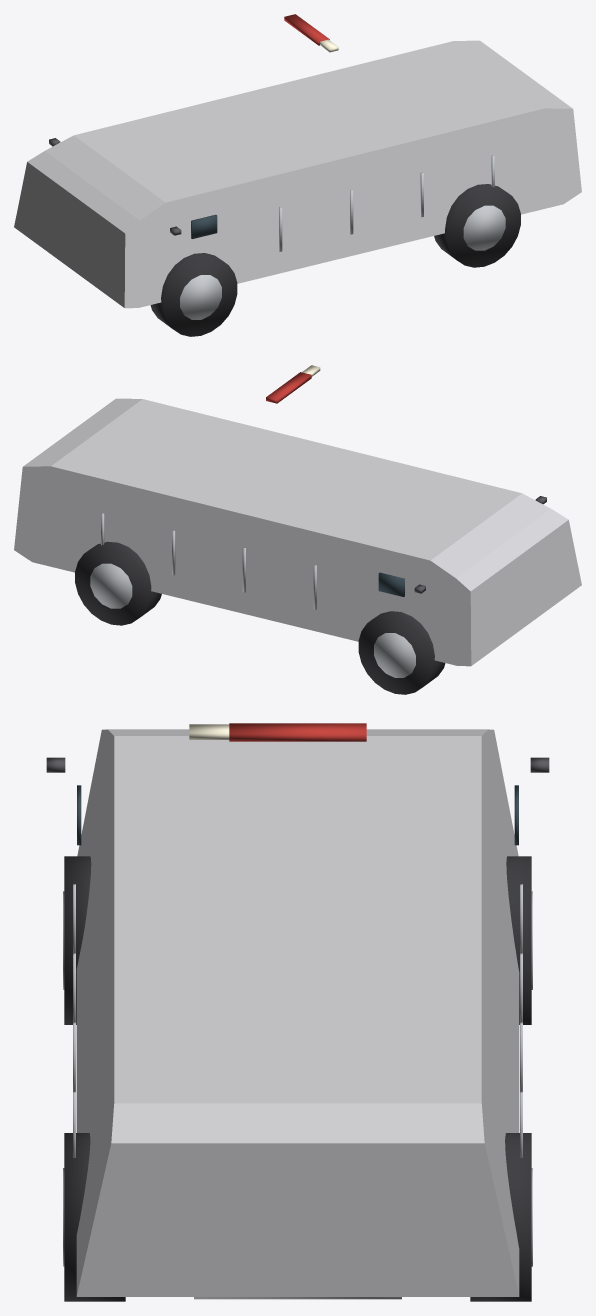
File: ambulance.glb
3 views of the same model, one above another, from view 1: azimuth 30°, elevation 25°; view 2: azimuth 150°, elevation 25°; view 3: azimuth 270°, elevation 25° (orthographic). The views are drawn at different scales.
Parts seen in each view (by area): view 1: body_main, wheel_front_r, wheel_rear_r, trim_rim__rear_r, trim_rim__front_r, taillight_bar_box, glass_side_r; view 2: body_main, wheel_rear_l, wheel_front_l, trim_rim__rear_l, trim_rim__front_l, taillight_bar_box, glass_side_l; view 3: body_main, wheel_rear_l, wheel_rear_r, wheel_front_r, wheel_front_l, taillight_bar_box.
Part boxes in pixels (x1,y1,x2,y2): body_main: (14, 40, 581, 308); wheel_front_r: (150, 253, 237, 336); wheel_rear_r: (434, 184, 520, 267); trim_rim__rear_r: (463, 205, 505, 250); trim_rim__front_r: (180, 275, 221, 319); taillight_bar_box: (284, 14, 329, 45); glass_side_r: (191, 214, 217, 238); body_main: (14, 398, 581, 666); wheel_rear_l: (75, 541, 161, 625); wheel_front_l: (358, 611, 445, 694); trim_rim__rear_l: (90, 563, 132, 608); trim_rim__front_l: (374, 633, 415, 677); taillight_bar_box: (266, 372, 311, 403); glass_side_l: (378, 572, 404, 596); body_main: (76, 729, 519, 1296); wheel_rear_l: (470, 1133, 531, 1301); wheel_rear_r: (64, 1133, 125, 1301); wheel_front_r: (64, 856, 91, 1024); wheel_front_l: (506, 856, 531, 1024); taillight_bar_box: (229, 723, 366, 741).
Size of the model in its own units: 6.2 by 2.92 by 2.95.
